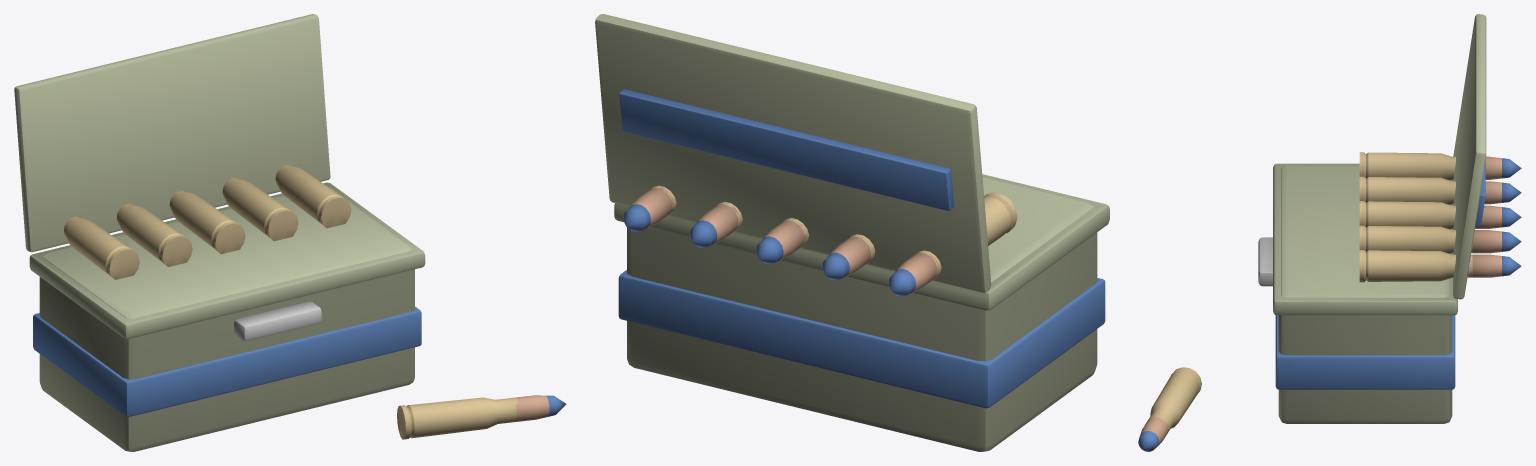
File: rifle-ammo-hv.glb
The picture shows the model from 3 angles, left to right: view 1: azimuth 30°, elevation 25°; view 2: azimuth 150°, elevation 25°; view 3: azimuth 270°, elevation 25°; orthographic projection. The views are drawn at different scales.
Visible parts, largest first — view 1: Body_lod0; view 2: Body_lod0; view 3: Body_lod0.
Boxes of the visible parts, x1=… form: Body_lod0: x1=14, y1=14, x2=566, y2=451; Body_lod0: x1=595, y1=14, x2=1109, y2=451; Body_lod0: x1=1138, y1=14, x2=1521, y2=451.
Size of what is drawn, in the model's own units: 0.1411 by 0.1059 by 0.1326.
